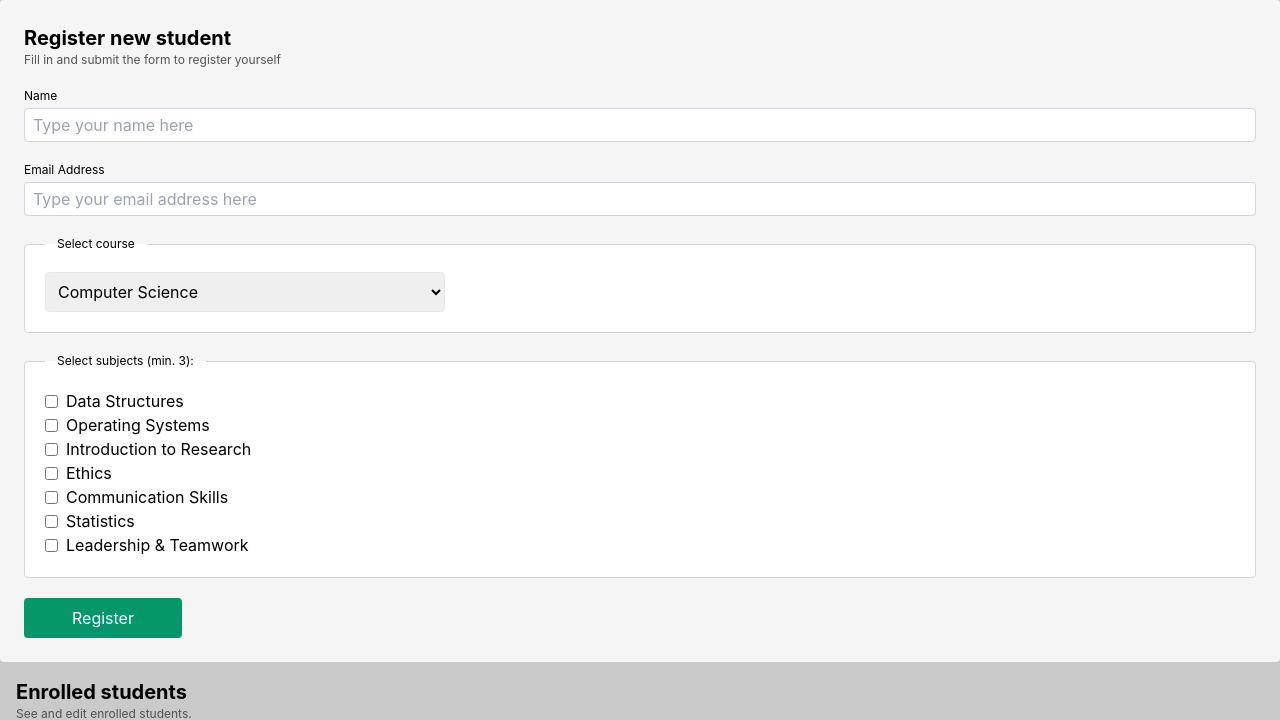
Test case: RegistrationForm › student appears in list after creation
Type "Brandon Sanderson" into the field labelled "Name" at coordinates (640, 125), box [24,108,1256,142]
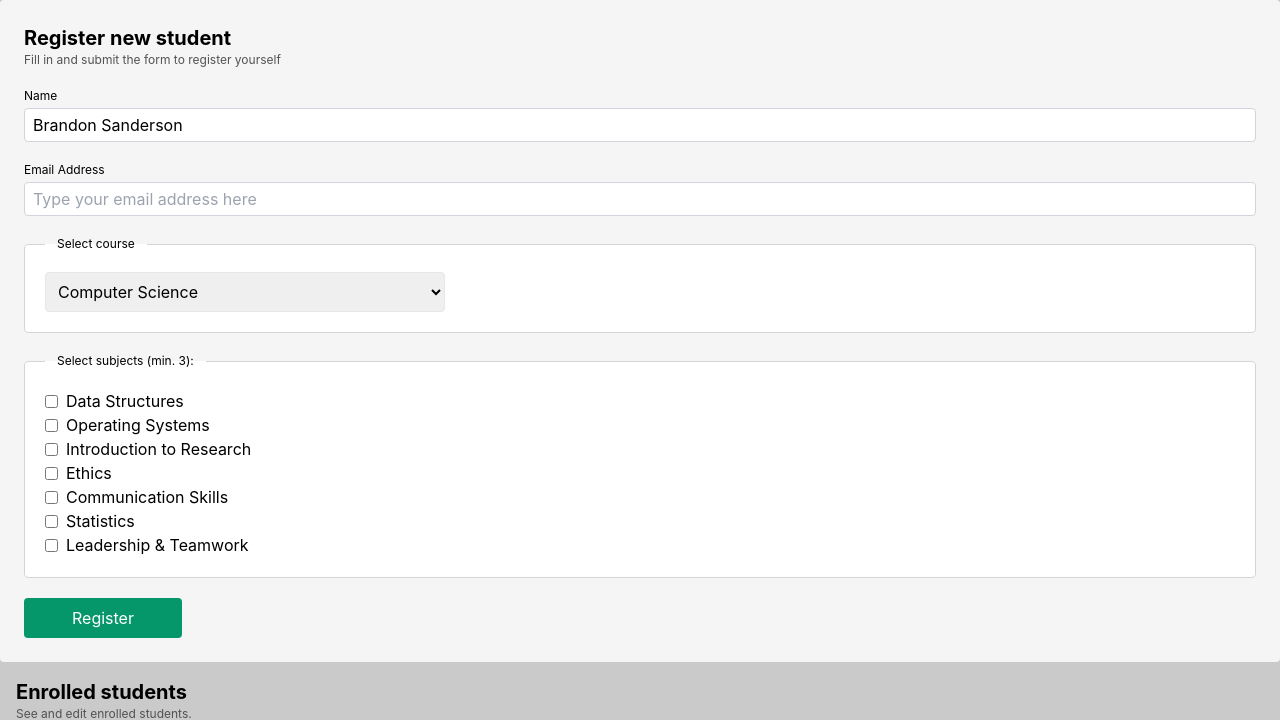
Type "brandon@gmail.com" into the field labelled "Email Address" at coordinates (640, 199), box [24,182,1256,216]
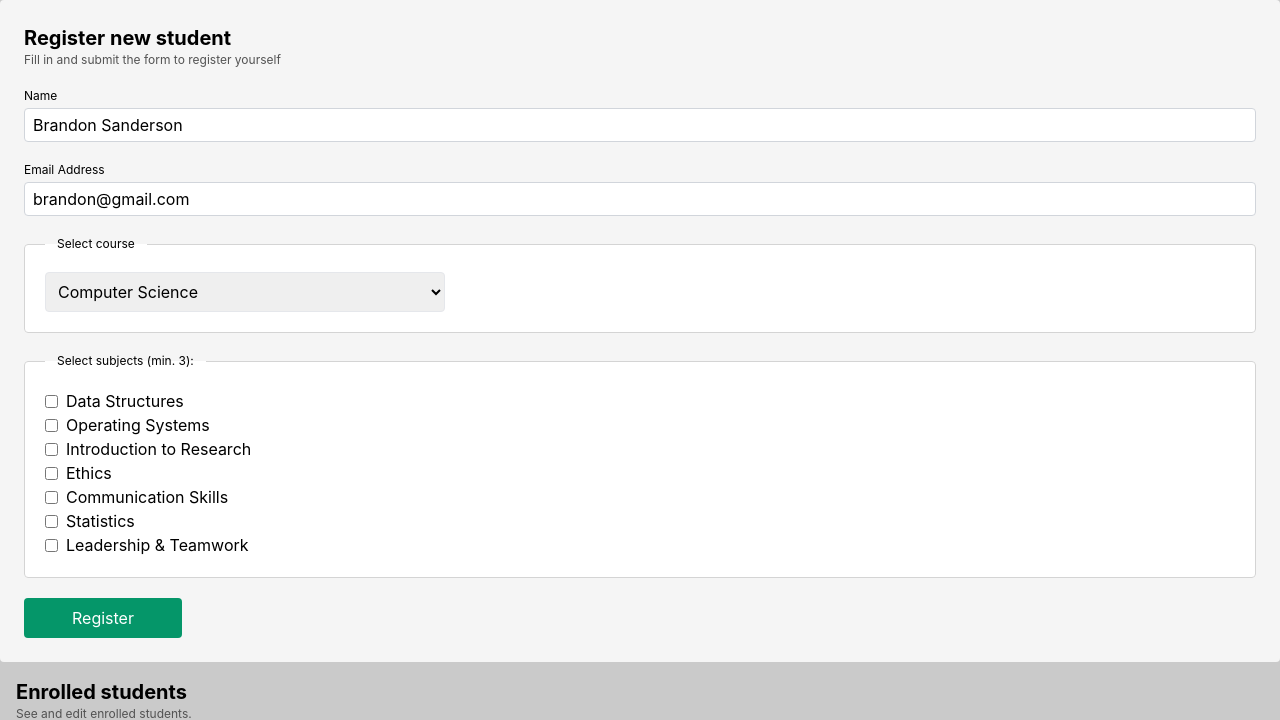
Click the checkbox labelled "Data Structures" at coordinates (52, 401), box [45,394,58,408]
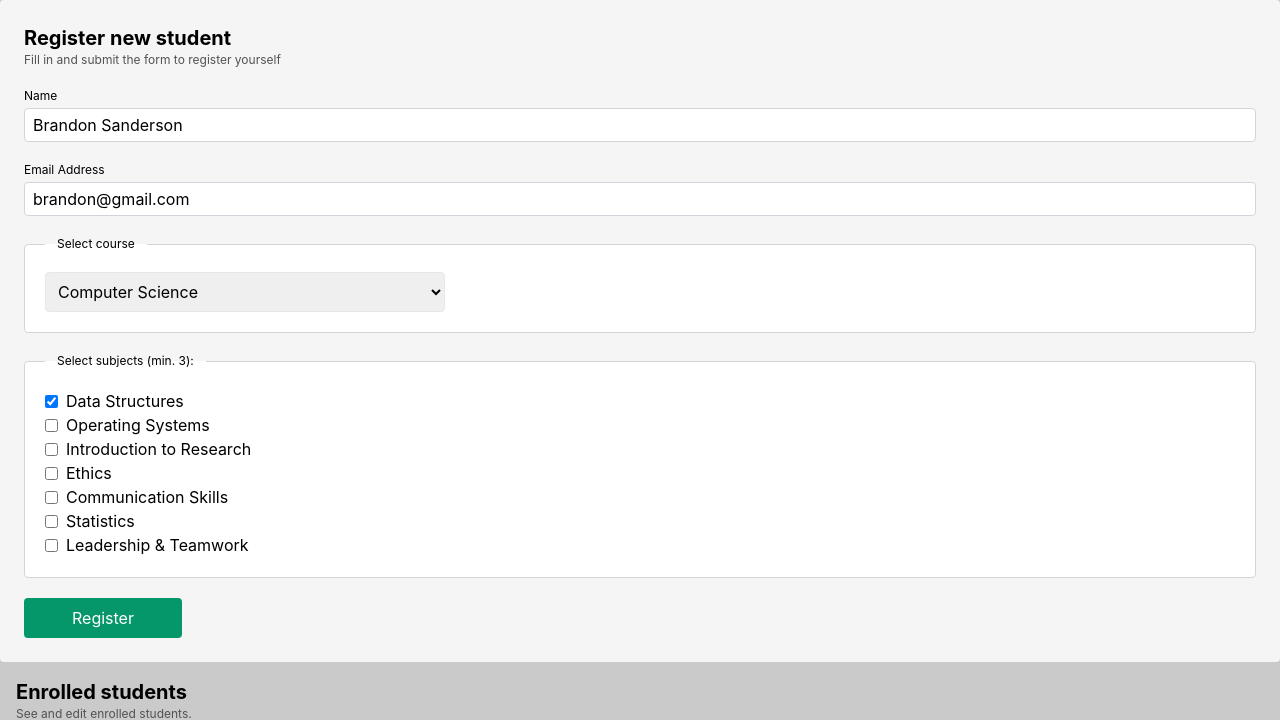
Click the checkbox labelled "Operating Systems" at coordinates (52, 425), box [45,418,58,432]
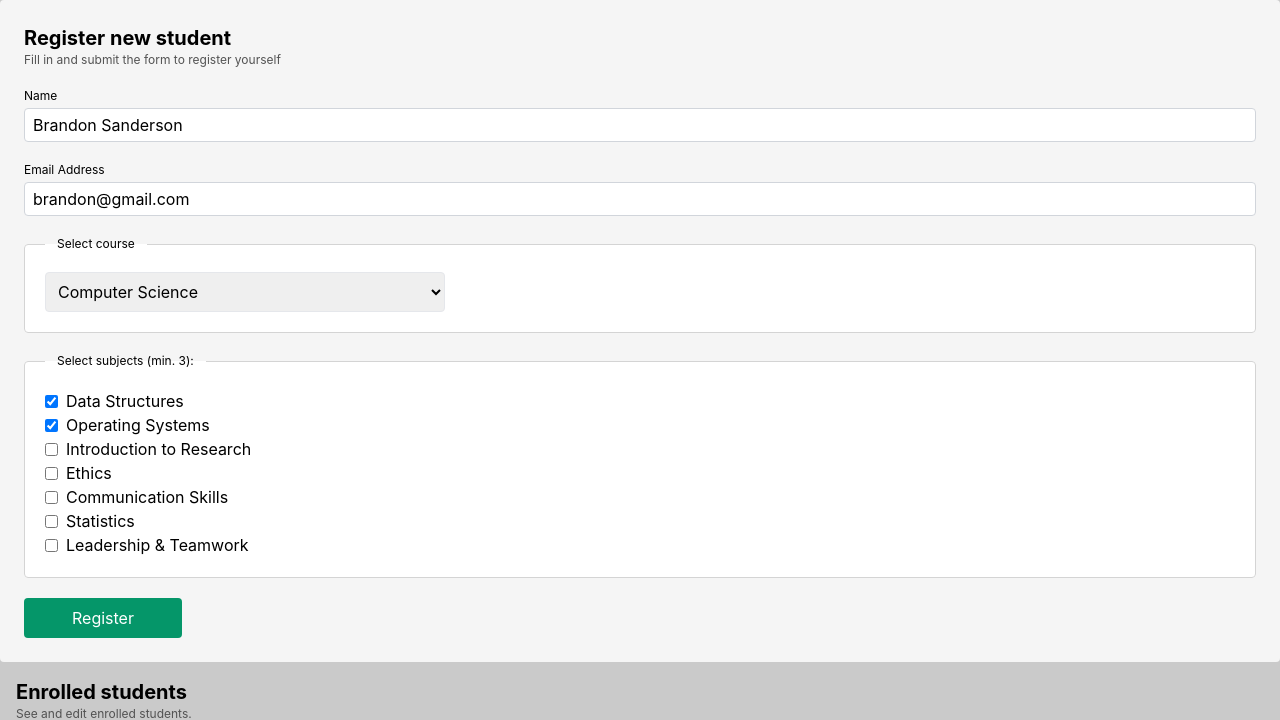
Click the checkbox labelled "Introduction to Research" at coordinates (52, 449), box [45,442,58,456]
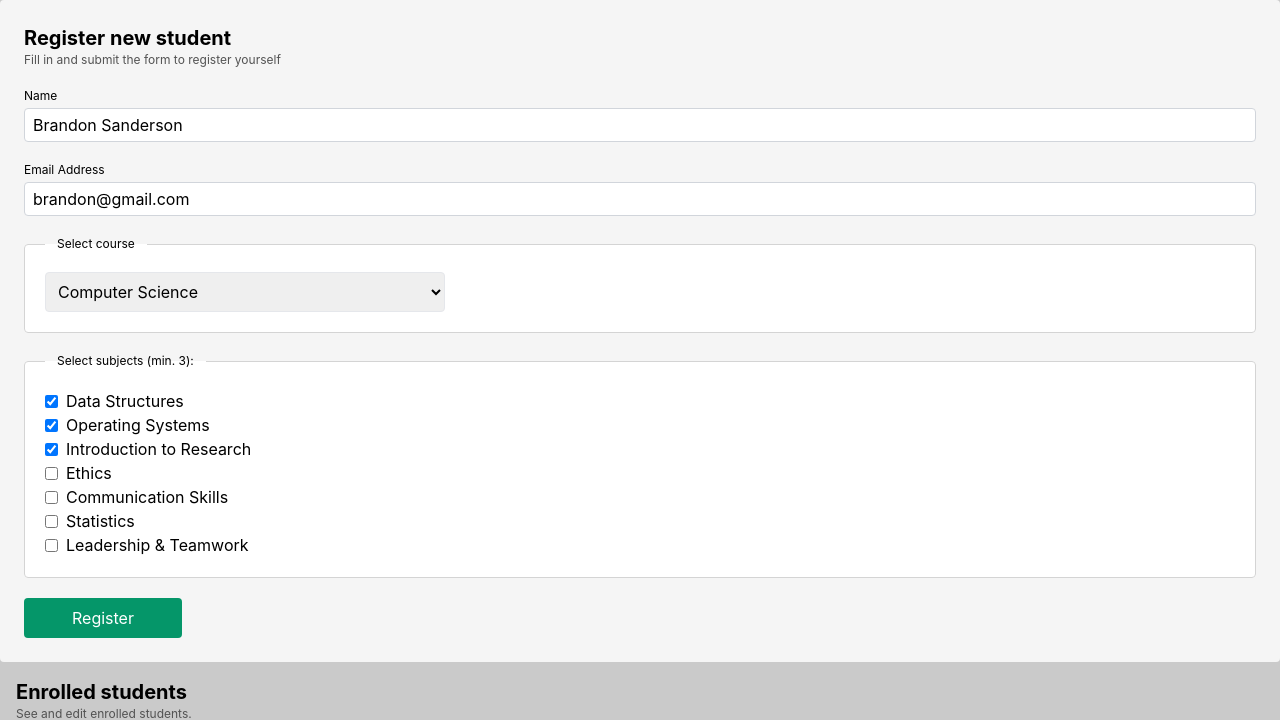
Click the button "Register" at coordinates (103, 618), box [24,598,182,638]
(page scrolled)
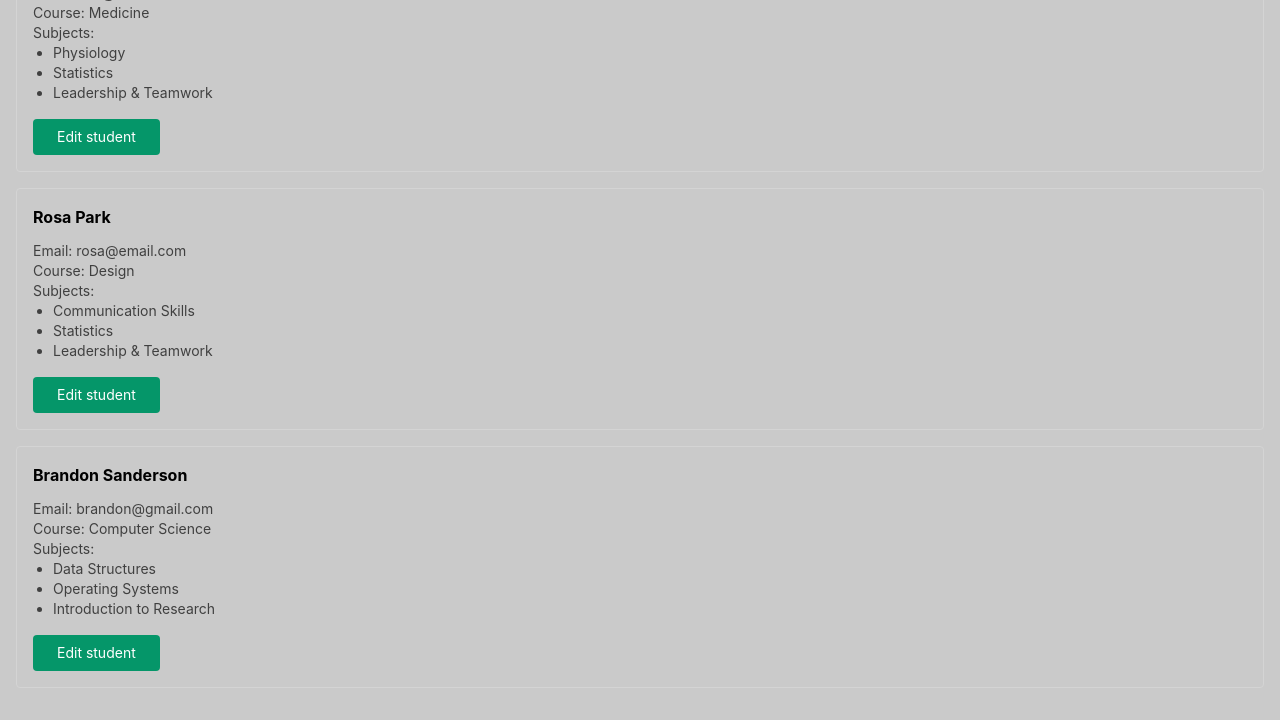
Result: the heading "Brandon Sanderson" is shown at [33,465,187,485]
